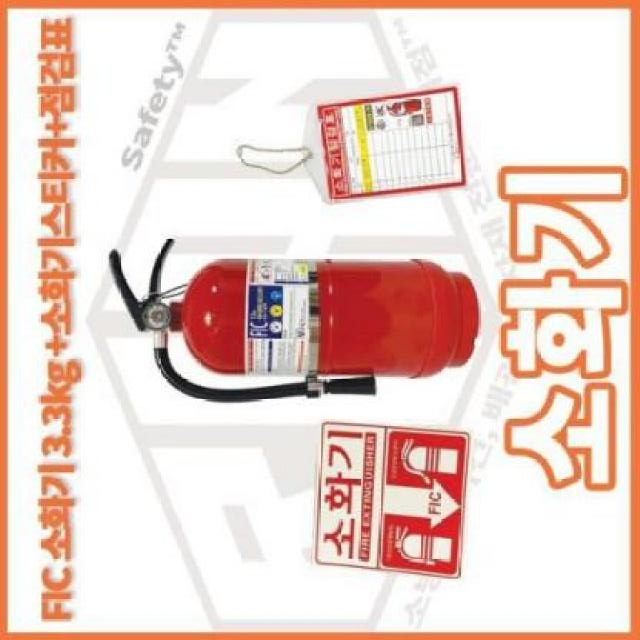fire extinguisher: (108, 239, 480, 405)
